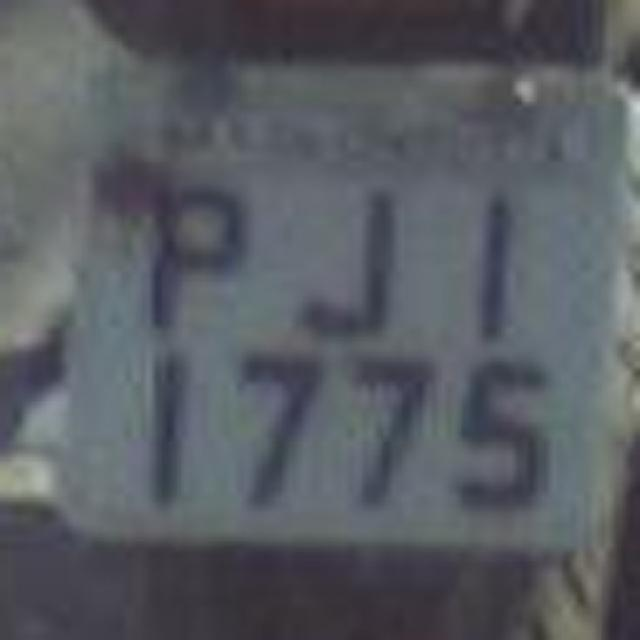1: (120, 329, 215, 516)
5: (440, 336, 568, 504)
7: (215, 344, 340, 516), (328, 344, 448, 516)
I: (452, 176, 548, 356)
J: (284, 168, 416, 352)
P: (120, 164, 260, 356)
